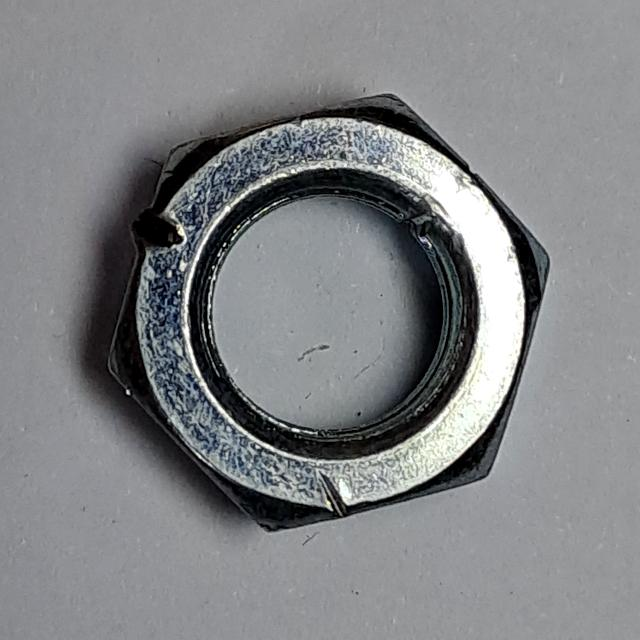Scratches: (94, 79, 566, 545)
